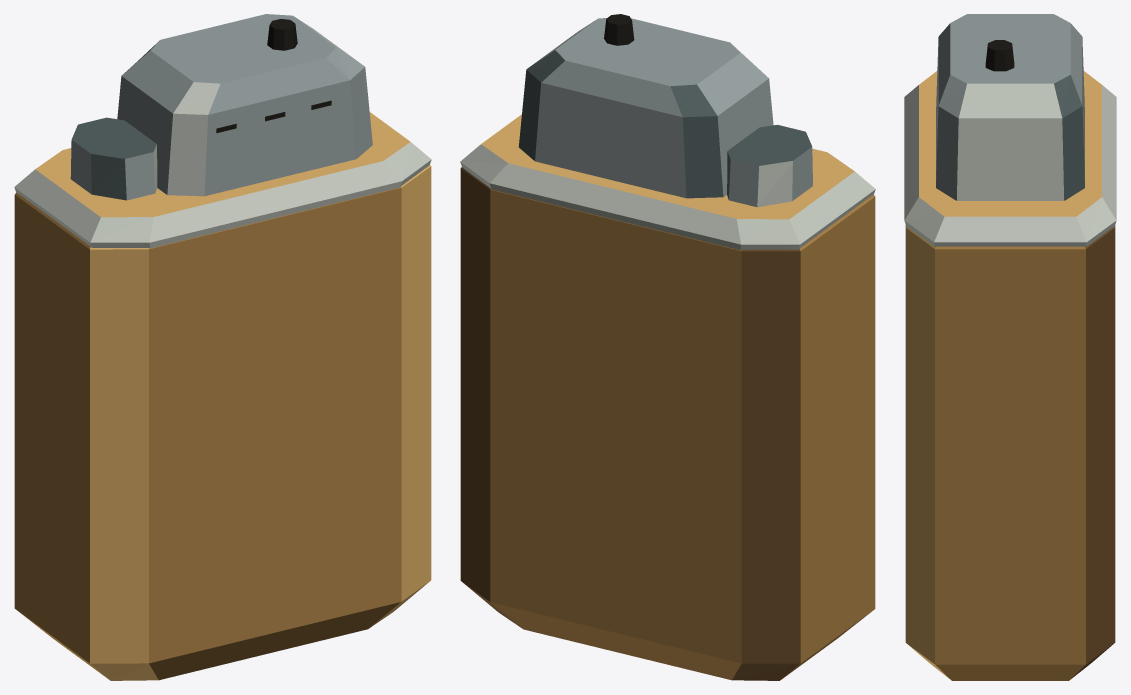
The model's file is lighter-body.obj.
3 renders of one model, left to right at view 1: azimuth 30°, elevation 25°; view 2: azimuth 150°, elevation 25°; view 3: azimuth 270°, elevation 25°, orthographic.
Visible parts, largest first — view 1: LighterBody; view 2: LighterBody; view 3: LighterBody.
Part boxes in pixels (x1=…): LighterBody: x1=14, y1=14, x2=431, y2=680; LighterBody: x1=460, y1=14, x2=875, y2=680; LighterBody: x1=904, y1=14, x2=1116, y2=680.
Size of the model in its own units: 0.302 by 0.5 by 0.162.
